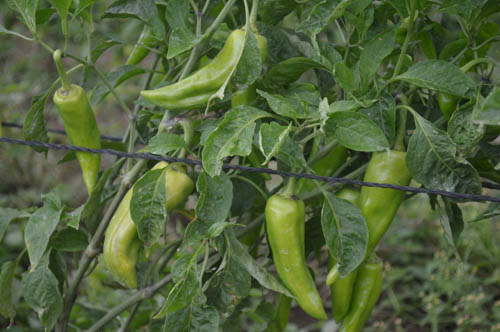ChiliPepper: (100, 161, 197, 293), (138, 33, 266, 109), (260, 193, 325, 320), (349, 149, 417, 262), (53, 87, 104, 183), (326, 188, 356, 322), (345, 259, 385, 331)
